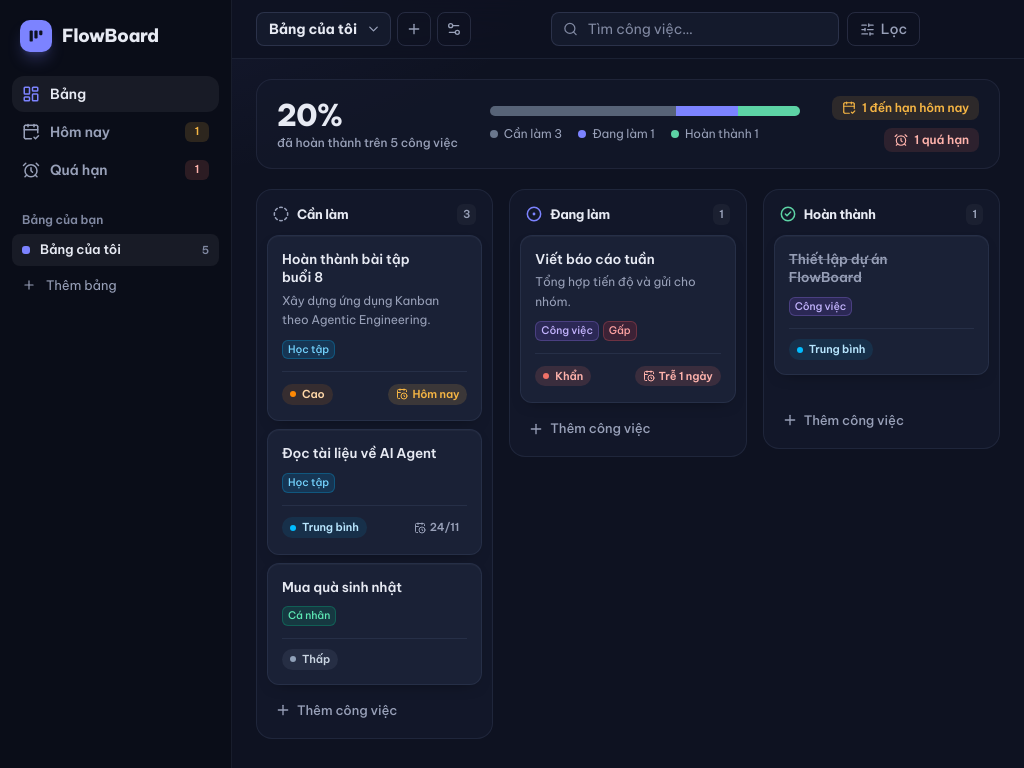
M10 review fixes › cancelling “Thêm bảng” keeps the current view
The image size is (1024, 768).
Click the button "Hôm nay 1". click: (116, 132)
box: 12,114 -> 219,150
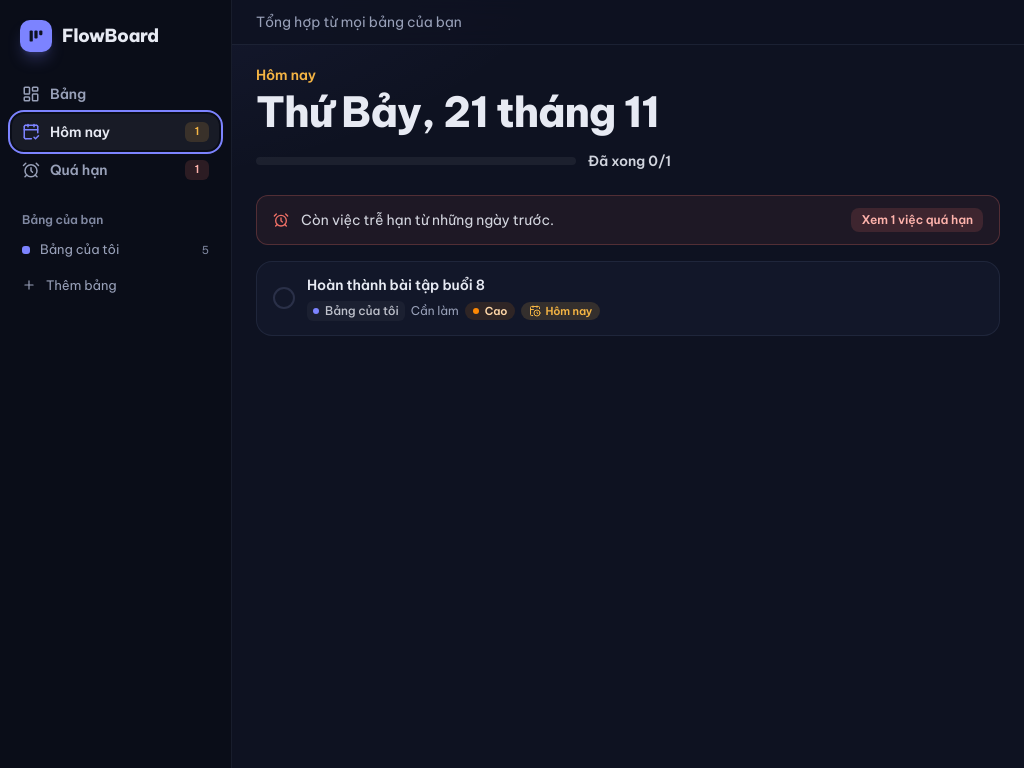
Click the button "Thêm bảng". click: (116, 285)
box: 12,270 -> 219,301
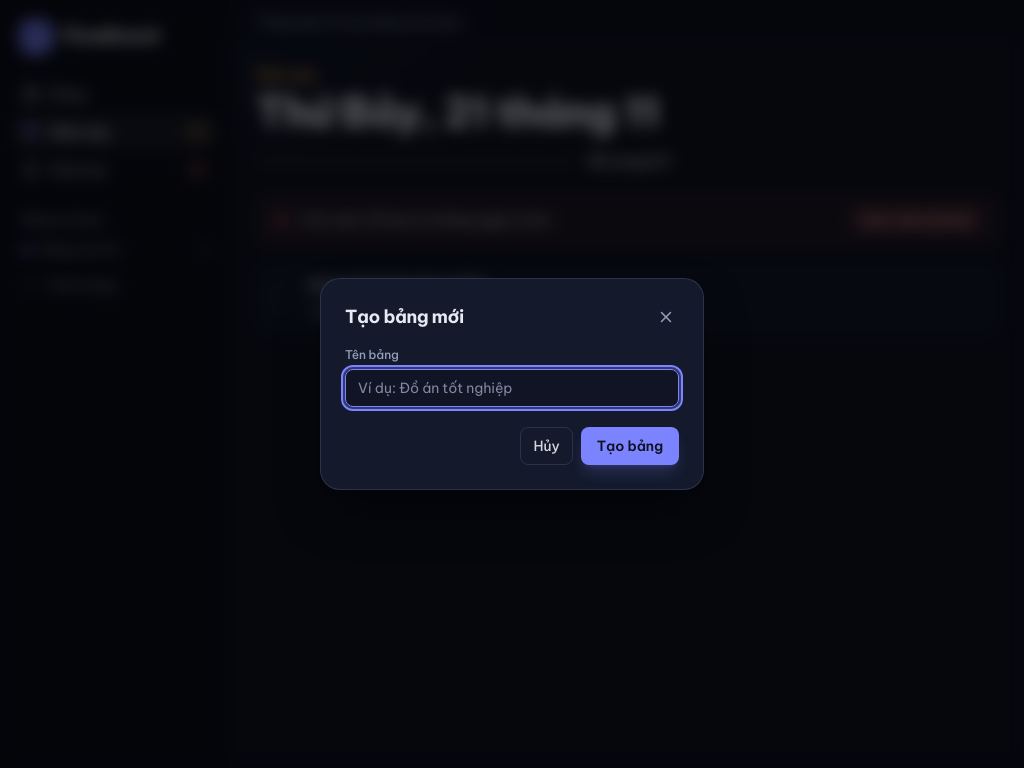
Click the button "Hủy". click: (547, 446)
box: 520,427 -> 573,465
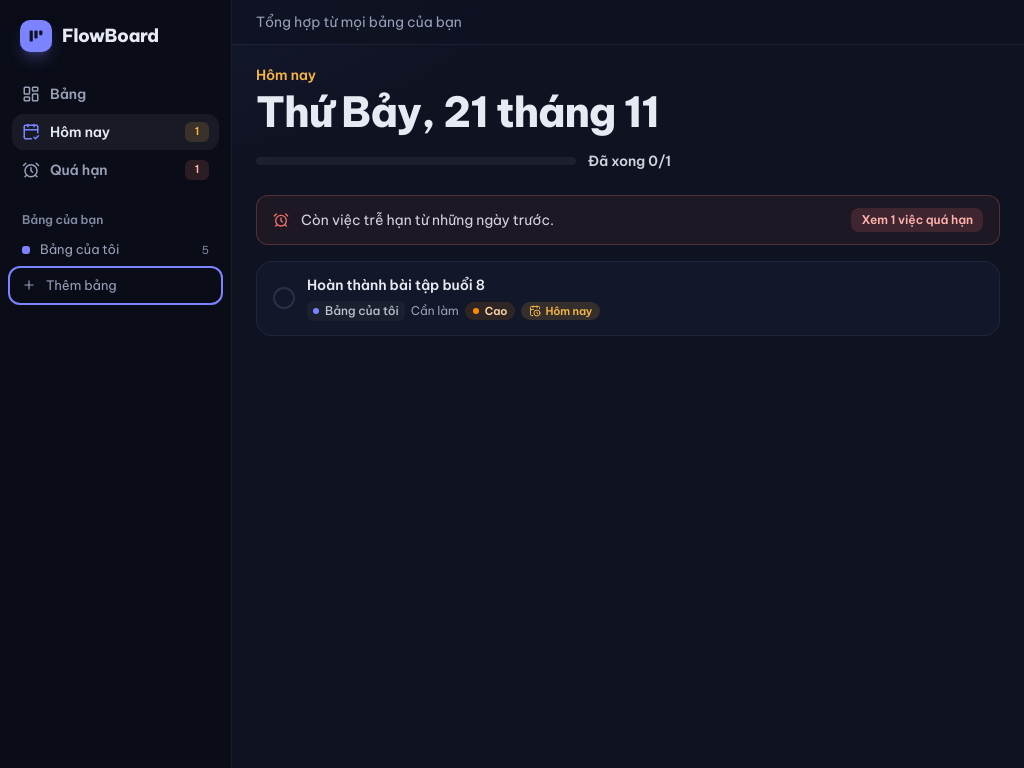
Check: the button "Hôm nay 1" is marked as current, box 12,114 -> 219,150
